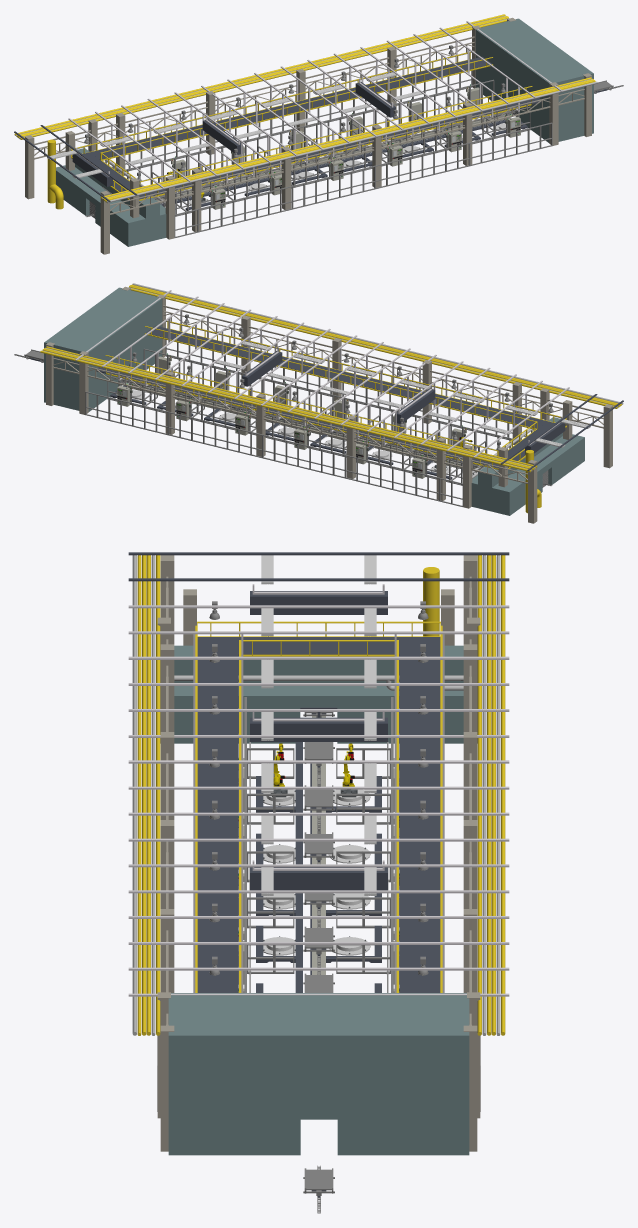
The model's file is FactoryFBX_3.fbx.
The picture shows the model from 3 angles, top to bottom: view 1: azimuth 30°, elevation 25°; view 2: azimuth 150°, elevation 25°; view 3: azimuth 270°, elevation 25°; orthographic projection. The views are drawn at different scales.
Visible parts, largest first — view 1: pCube140, pCube110, pCube157, polySurface11, pCube155, pCube125, pCube102, pCube135, pCube167, pCube66, pCube156, pCube158 (+15 smaller); view 2: pCube140, pCube110, pCube157, polySurface11, pCube155, pCube125, pCube102, pCube135, pCube167, pCube66, pCube156, pCube158 (+13 smaller); view 3: pCube157, pCube110, polySurface11, pCube125, pCube140, pCube135, pCube167, pCylinder123, polySurface8, pCube141, pCube169, pCube198 (+13 smaller).
Boxes of the visible parts, x1,y1,x2,y2 form: pCube140: (25,17,591,254); pCube110: (72,41,541,200); pCube157: (475,18,593,142); polySurface11: (14,14,597,203); pCube155: (105,71,552,237); pCube125: (68,21,562,188); pCube102: (117,79,530,216); pCube135: (56,148,166,246); pCube167: (47,72,422,178); pCube66: (156,114,509,203); pCube156: (88,119,174,239); pCube158: (472,25,558,145); pCube140: (46,286,612,523); pCube110: (96,310,565,469); pCube157: (44,287,162,411); polySurface11: (40,283,623,472); pCube155: (85,340,532,506); pCube125: (75,290,569,457); pCube102: (107,348,518,485); pCube135: (471,417,584,515); pCube167: (215,341,590,447); pCube66: (127,383,480,472); pCube156: (463,388,549,508); pCube158: (79,294,165,414); pCube157: (168,993,469,1155); pCube110: (193,622,444,992); polySurface11: (132,555,505,1035); pCube125: (128,605,509,996); pCube140: (160,555,477,1151); pCube135: (174,645,463,743); pCube167: (261,555,376,895); pCylinder123: (303,712,334,992); polySurface8: (197,637,440,655); pCube141: (128,552,509,581); pCube169: (250,584,387,614); pCube198: (250,860,387,890).
Size of the model in its own units: 483 by 49.75 by 142.
